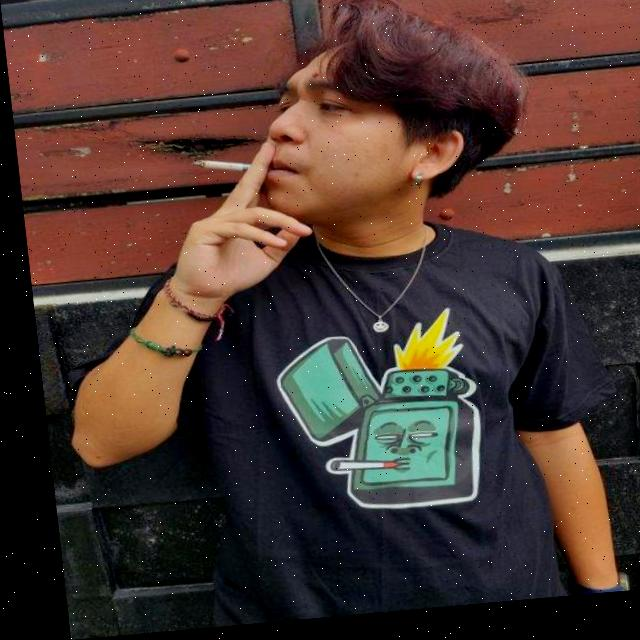cigarette: (189, 159, 247, 180)
